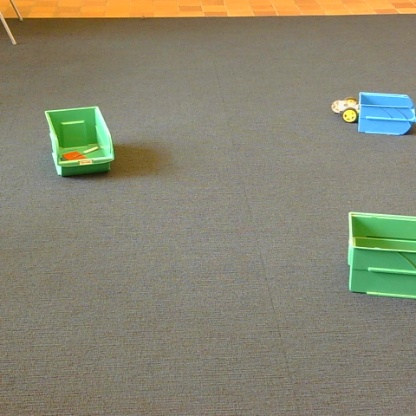robot: (331, 97, 358, 122)
